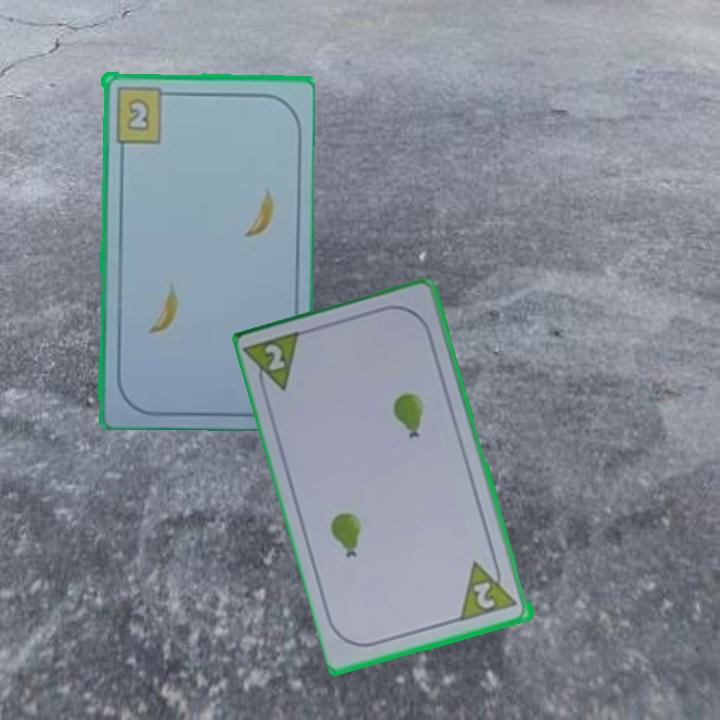2b: (111, 83, 174, 145)
2p: (470, 578, 499, 612), (261, 340, 289, 375)
